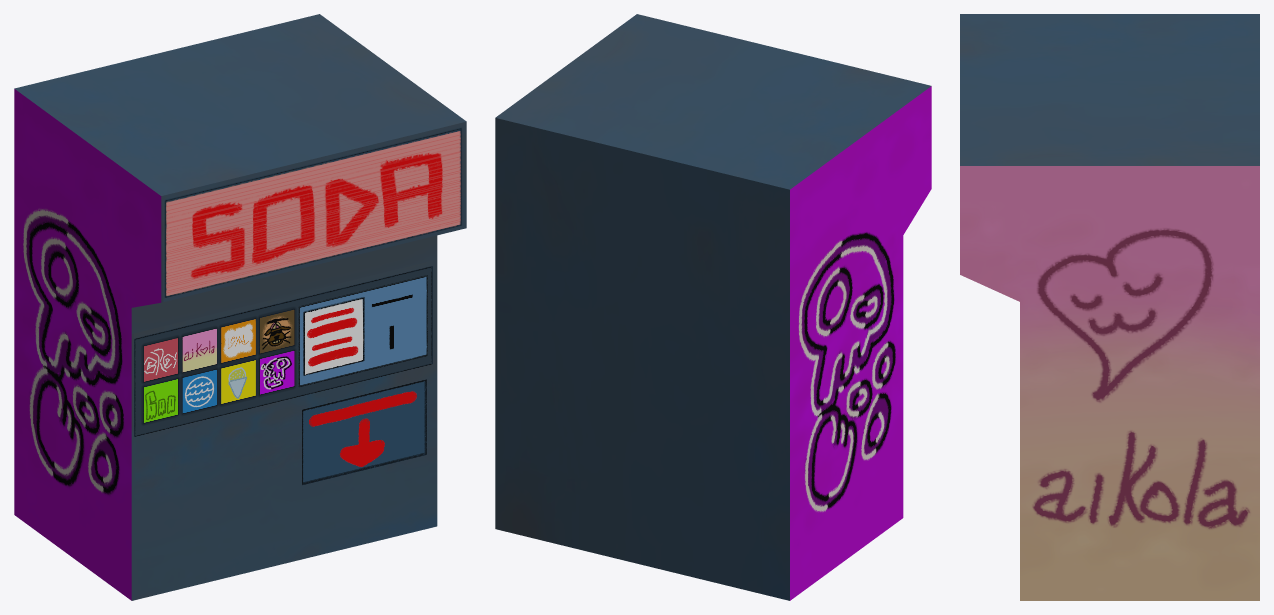
The model's file is VendingMachine.fbx.
3 renders of one model, left to right at view 1: azimuth 30°, elevation 25°; view 2: azimuth 150°, elevation 25°; view 3: azimuth 270°, elevation 25°, orthographic. The views are drawn at different scales.
Parts seen in each view (by area): view 1: Cube; view 2: Cube; view 3: Cube.
Part boxes in pixels (x1,y1,x2,y2): Cube: [14, 14, 466, 600]; Cube: [495, 14, 931, 600]; Cube: [960, 14, 1259, 600].
Bounding box in the file's own units: 600 × 500 × 800.
1 material, 1 textured.
